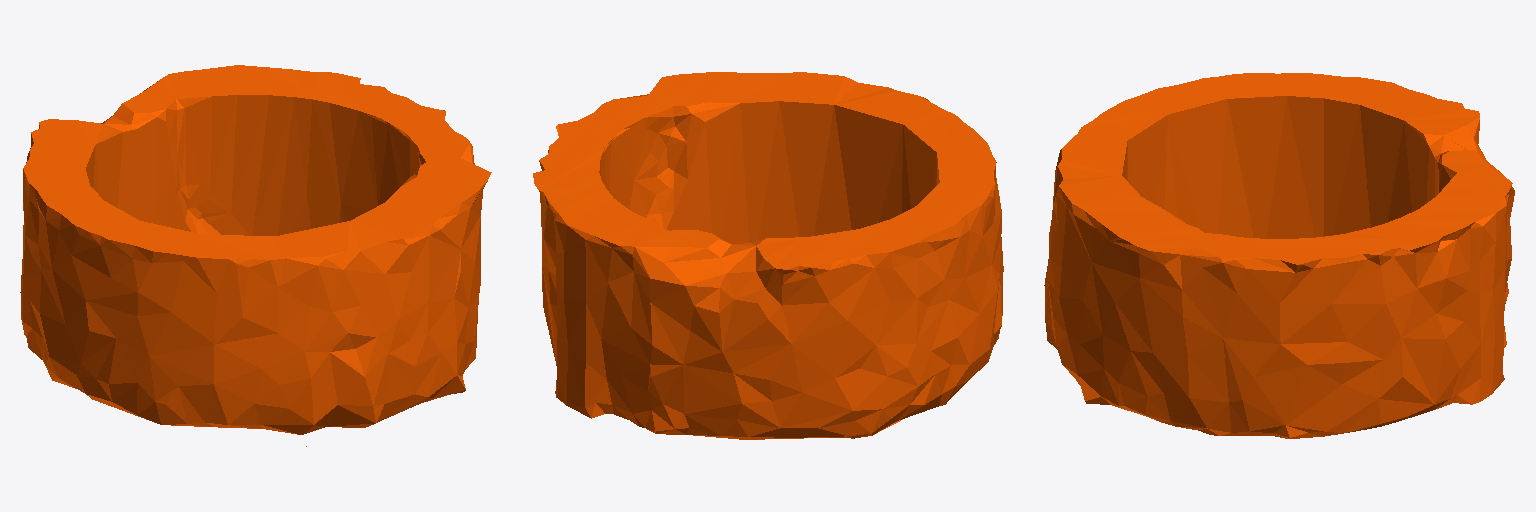
URDF robot description (small_tape):
<?xml version="1.0" ?>
<robot name="small_tape">
   <material name="obj_color">
      <color rgba="1.0 0.423529411765 0.0392156862745 1.0"/>
   </material>
   <link name="top">
      <inertial>
         <origin rpy="0.0003407567572612443 0.0003671580698433035 0.0006087692276364851" xyz="-0.007958052090367923 -0.008865048499193826 0.001101383823039162"/>
         <mass value="0.3222619698043082"/>
         <inertia ixx="0.0003655551180201085" ixy="6.306038407028462e-06" ixz="6.789959524691465e-07" iyy="0.0003423640673810945" iyz="-8.273417765000849e-07" izz="0.0006087648693398298"/>
      </inertial>
      <visual>
         <origin rpy="0 0 0" xyz="0 0 0"/>
         <geometry>
            <mesh filename="top_watertight_tiny.stl" scale="1 1 1"/>
         </geometry>
         <material name="obj_color"/>
      </visual>
      <collision>
         <origin rpy="0 0 0" xyz="0 0 0"/>
         <geometry>
            <mesh filename="top_watertight_tiny.obj" scale="1 1 1"/>
         </geometry>
      </collision>
   </link>
   <link name="bottom">
      <inertial>
         <origin rpy="1.633333333199431e-08 1.633333333199431e-08 1.633333333362855e-08" xyz="0.3464080000000008 0.3464080000000008 0.3464080000000008"/>
         <mass value="0.0009800000000000017"/>
         <inertia ixx="1.633333333253906e-08" ixy="5.447480642029219e-19" ixz="5.447480642029219e-19" iyy="1.633333333253906e-08" iyz="5.447480642029219e-19" izz="1.633333333253906e-08"/>
      </inertial>
      <visual>
         <origin rpy="0 0 0" xyz="0 0 0"/>
         <geometry>
            <mesh filename="bottom_watertight_tiny.stl" scale="1 1 1"/>
         </geometry>
         <material name="obj_color"/>
      </visual>
   </link>
   <link name="world"/>
   <joint name="world_to_base" type="fixed">
      <origin xyz="0 0 0"/>
      <axis xyz="0 0 0"/>
      <parent link="world"/>
      <child link="bottom"/>
   </joint>
   <joint name="rotation" type="revolute">
      <origin xyz="0 0 0"/>
      <axis xyz="0 0 -1"/>
      <parent link="bottom"/>
      <child link="top"/>
      <dynamics damping="1.0" friction="1.0"/>
      <limit effort="0.1" velocity="0.1" lower="0" upper="0.001"/>
   </joint>
</robot>

--- What the picture shows (computed from the rendered views, not written in the file) ---
3 views of the same robot in one strip: view 1: azimuth 30°, elevation 25°; view 2: azimuth 150°, elevation 25°; view 3: azimuth 270°, elevation 25° (orthographic).
Model small_tape with 3 links and 2 joints (1 revolute, 1 fixed), rooted at world, posed all joints at 0.
Visible links, largest first — view 1: top; view 2: top; view 3: top.
Boxes of the visible links, <box> form: top: <box>20,65,491,446</box>; top: <box>533,72,1003,439</box>; top: <box>1044,73,1514,438</box>.
Bounding box of the posed robot: 0.1018 × 0.1037 × 0.0441 m (x, y, z).
1 mesh visuals loaded from 2 distinct referenced files (1 binary STL); not drawn: 1 (reference not matched to a file when rendering).
